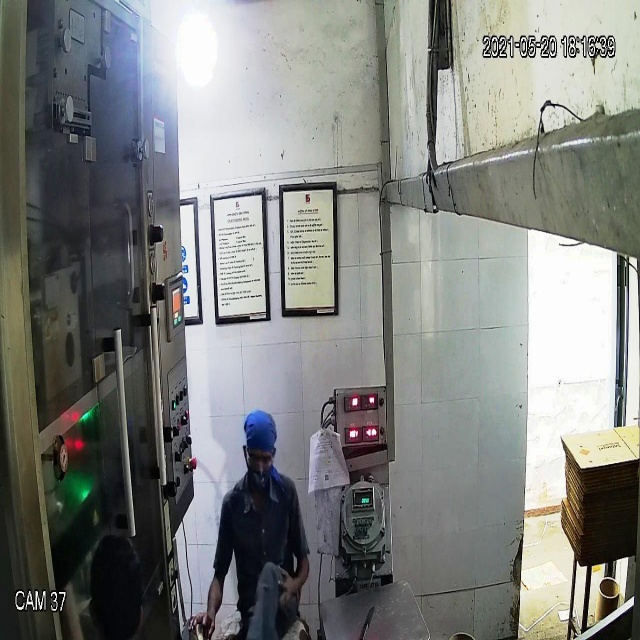Gafas: (244, 446, 276, 470)
